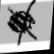not correct: (3, 0, 41, 49)
